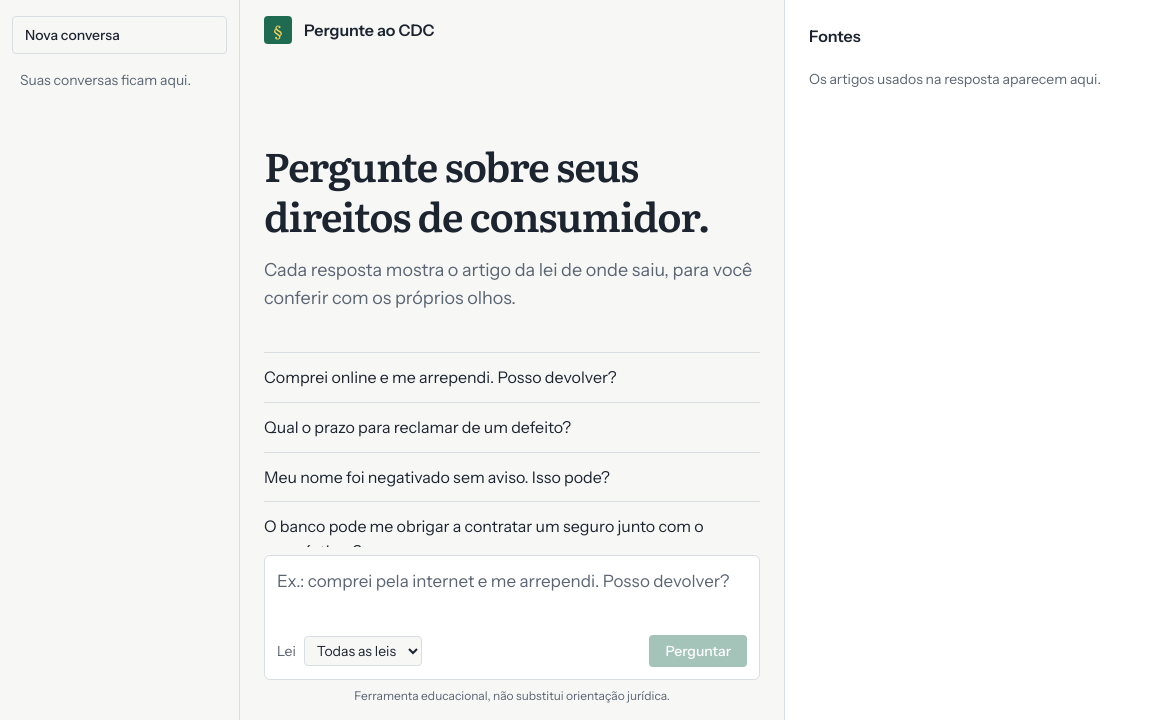
ChatPage with history › moves a new conversation to its URL and does not duplicate the last turn after done
In the text box named "Sua pergunta": (512, 594) [277,568,747,620], type "Posso devolver?"
Then press Enter
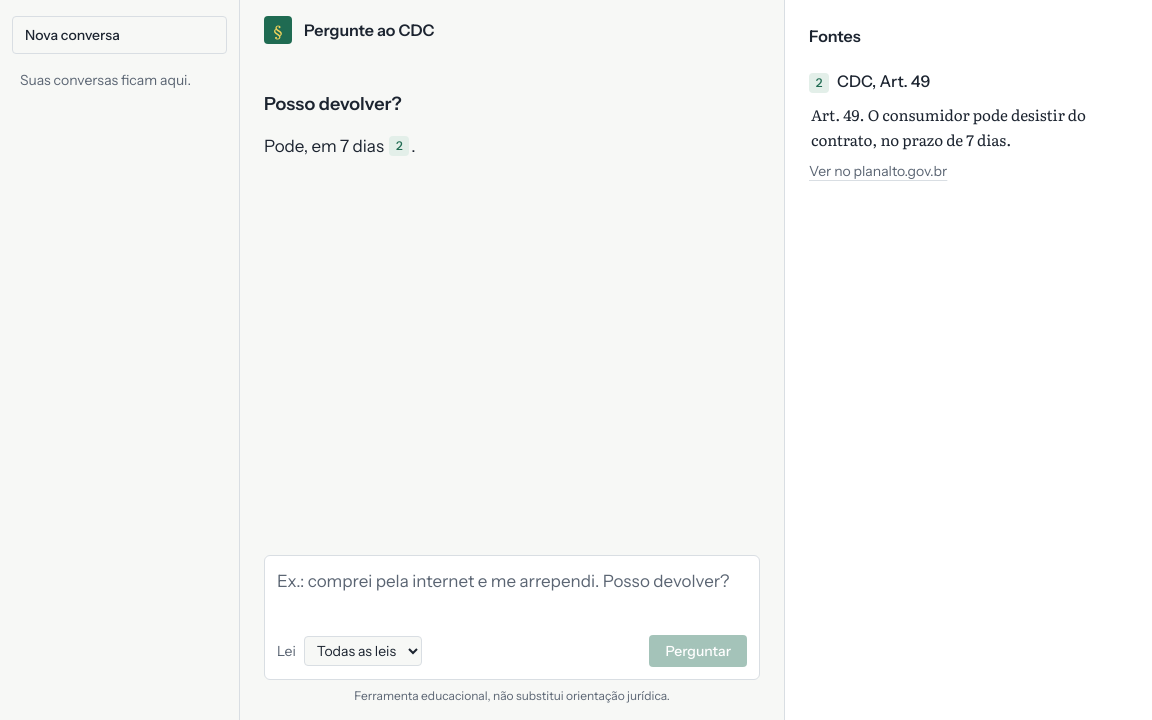
Now the number of headings "Posso devolver?" is 1, box [264,93,402,115]
Now the text "Pode, em 7 dias 2 ." is shown once, box [264,136,416,156]
